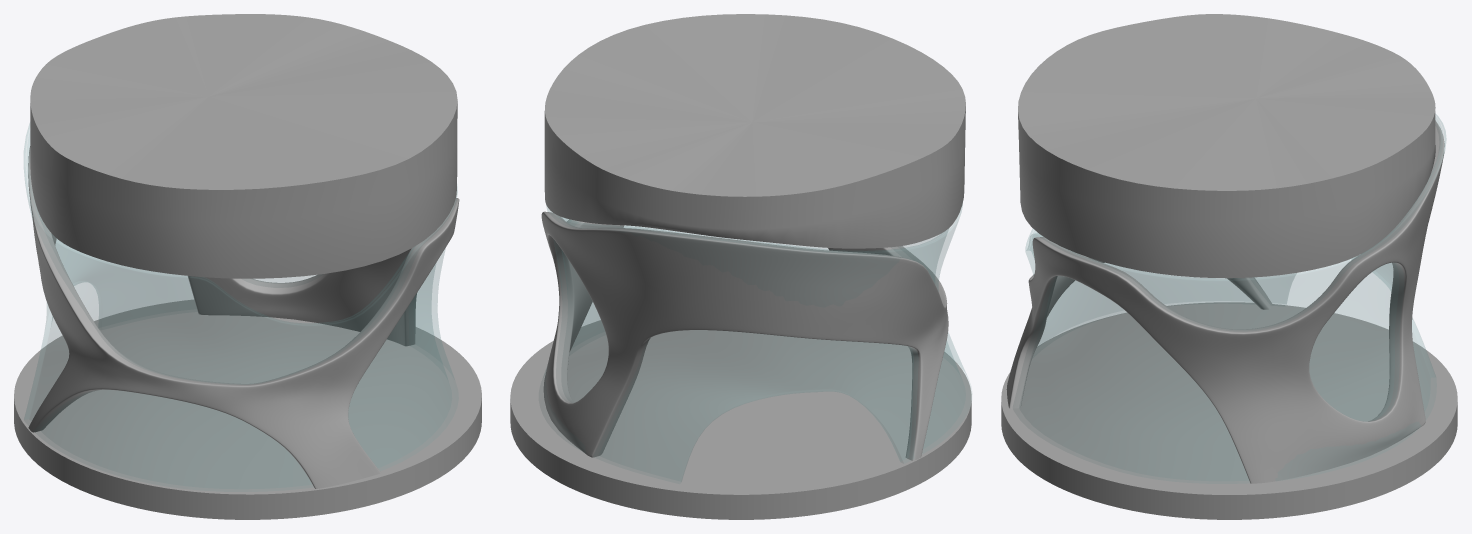
The model's file is testHome4(Glass).fbx.
The picture shows the model from 3 angles, left to right: view 1: azimuth 30°, elevation 25°; view 2: azimuth 150°, elevation 25°; view 3: azimuth 270°, elevation 25°; orthographic projection. The views are drawn at different scales.
Parts seen in each view (by area): view 1: MainRoomFutGlass2:SmartCombine_0; view 2: MainRoomFutGlass2:SmartCombine_0; view 3: MainRoomFutGlass2:SmartCombine_0.
Boxes of the visible parts, x1,y1,x2,y2 form: MainRoomFutGlass2:SmartCombine_0: (14,14,481,519); MainRoomFutGlass2:SmartCombine_0: (510,14,971,519); MainRoomFutGlass2:SmartCombine_0: (1001,14,1457,519).
Size of the model in its own units: 900 by 689 by 900.
